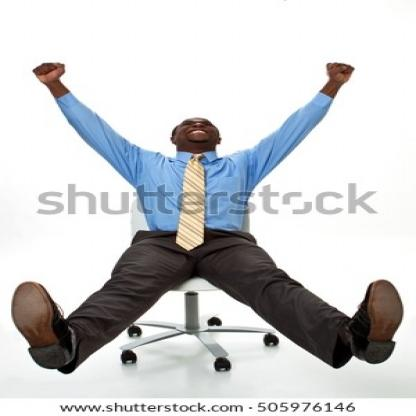fist: (14, 56, 82, 90), (314, 58, 372, 86)
